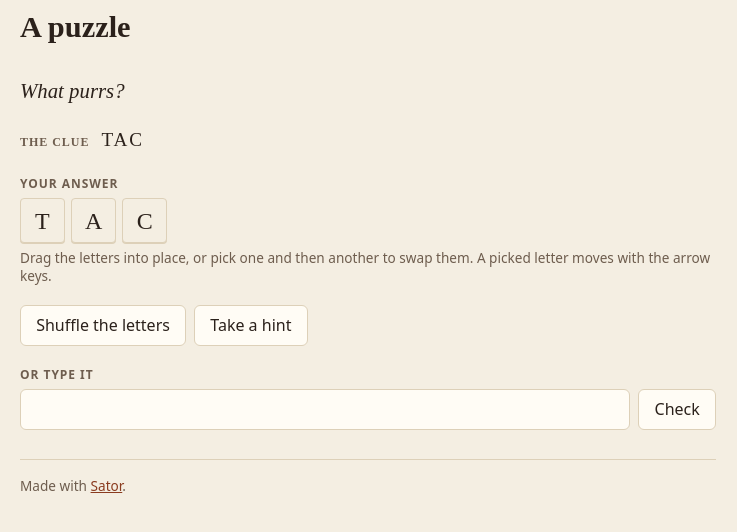
Test: the players’ page › checks a guess typed in
Type "act" into the field labelled "Or type it" at (325, 409), box [20,389,630,430]
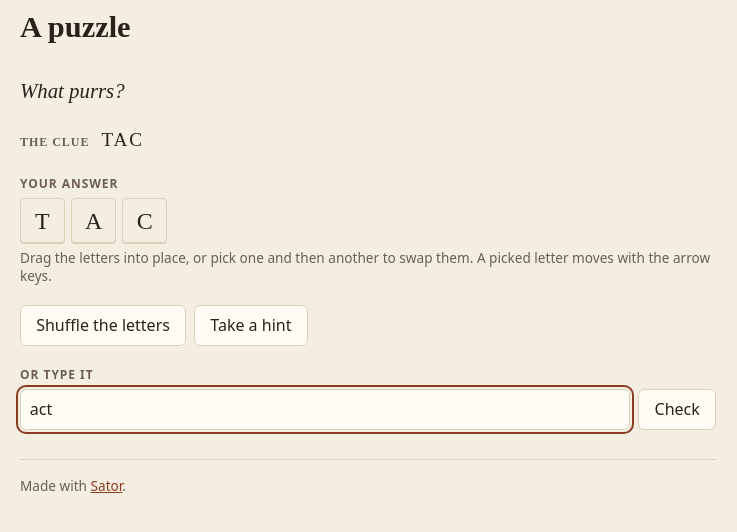
Click the button "Check" at (677, 409), box [638,389,716,430]
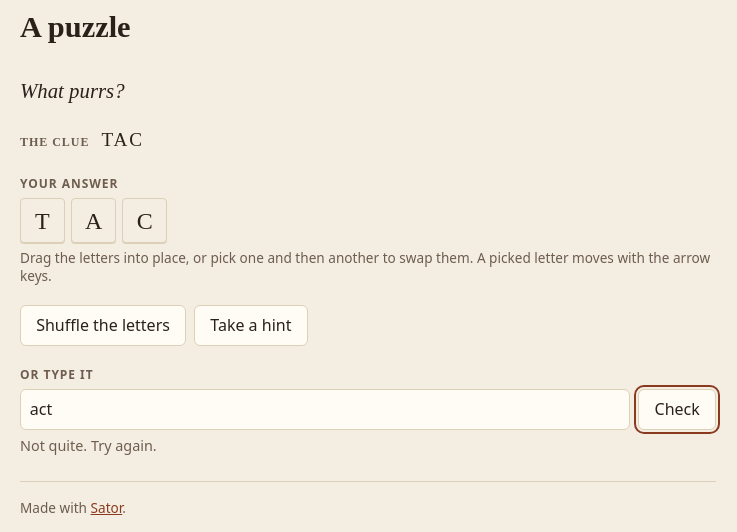
Expected: the text "Not quite. Try again." is shown, [20,436,157,455]
Replace the text in the field labelled "Or type it" with "Cat!" at (325, 409), box [20,389,630,430]
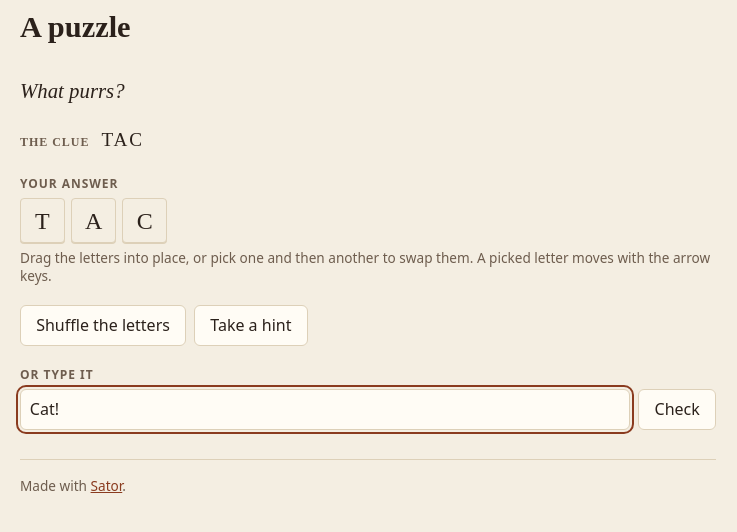
Click the button "Check" at (677, 409), box [638,389,716,430]
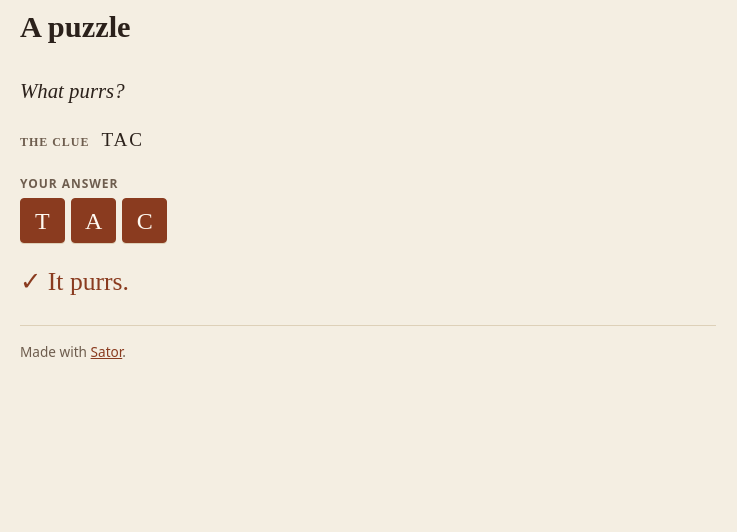
Expected: the text "It purrs." is shown, [48,267,129,296]
